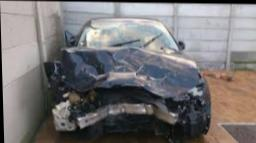Bonnet: (60, 45, 197, 96)
Bumper: (63, 96, 209, 141)
Light: (175, 83, 204, 104), (62, 80, 86, 100)
